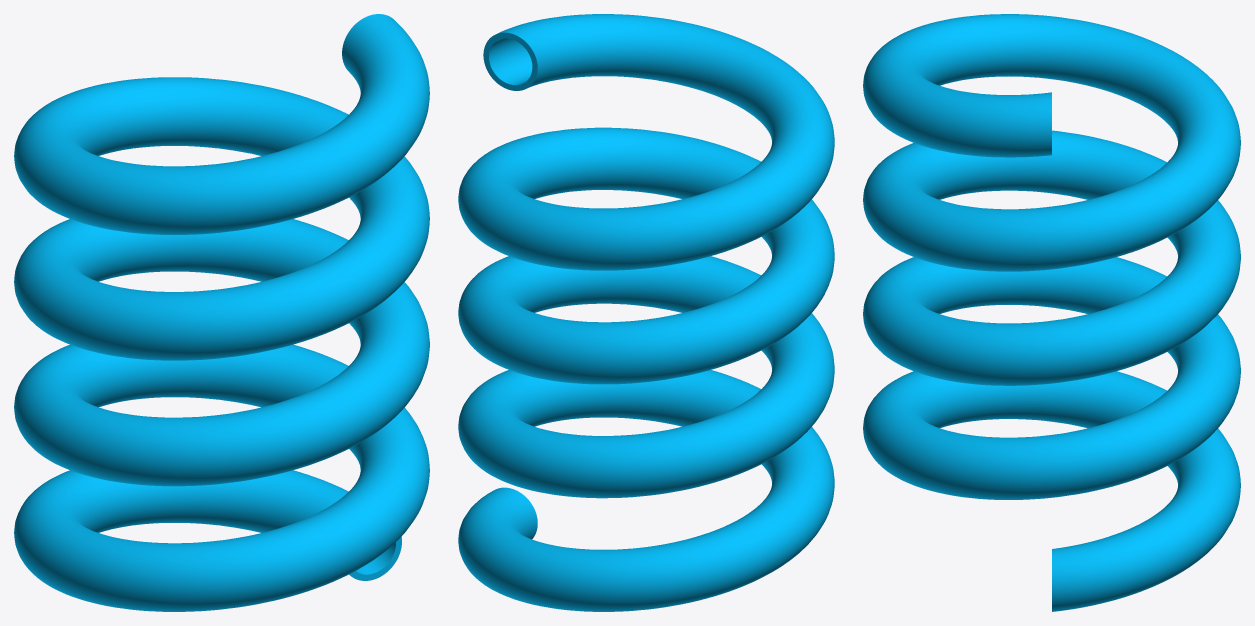
The model's file is heliks_boru_modeli.gltf.
3 renders of one model, left to right at view 1: azimuth 30°, elevation 25°; view 2: azimuth 150°, elevation 25°; view 3: azimuth 270°, elevation 25°, orthographic. The views are drawn at different scales.
Visible parts, largest first — view 1: Gövde; view 2: Gövde; view 3: Gövde.
Part boxes in pixels (bbox=[...]): Gövde: bbox=[14, 14, 429, 611]; Gövde: bbox=[458, 14, 834, 611]; Gövde: bbox=[863, 14, 1240, 611].
Bounding box in the file's own units: 0.06 × 0.09 × 0.06.
